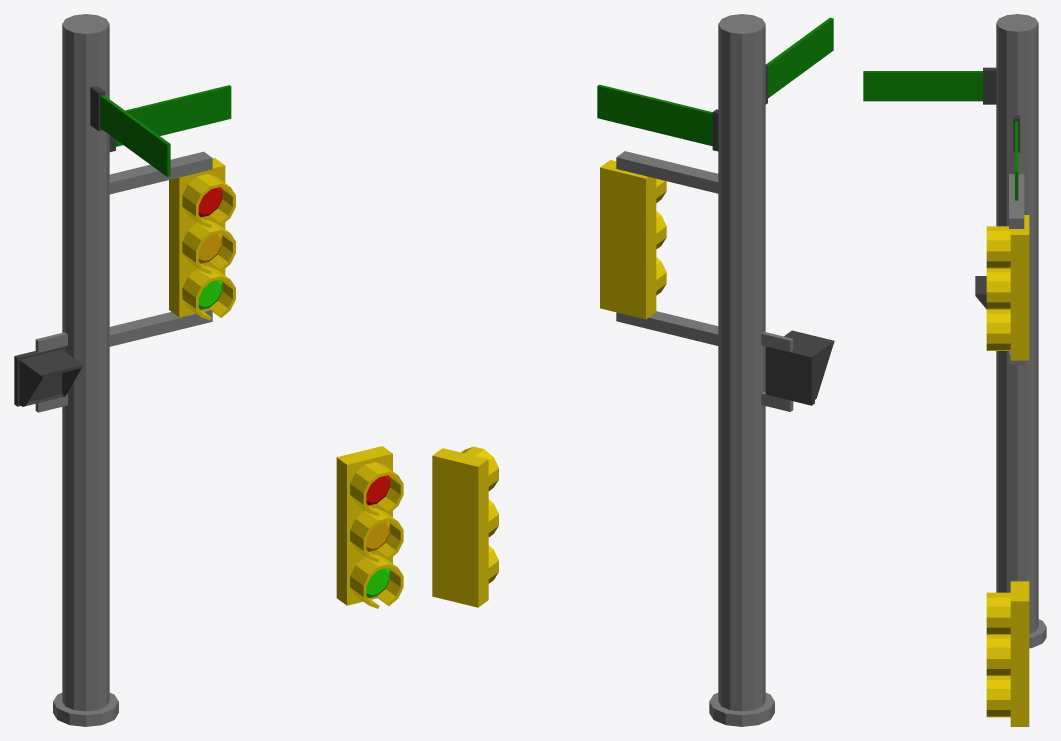
File: Stop Lights.fbx
The picture shows the model from 3 angles, left to right: view 1: azimuth 30°, elevation 25°; view 2: azimuth 150°, elevation 25°; view 3: azimuth 270°, elevation 25°; orthographic projection. The views are drawn at different scales.
Parts seen in each view (by area): view 1: Circle, Cube.004, Cube.001, Cube.002, Cube.011, Cube.003, Cube, Cube.013; view 2: Circle, Cube.002, Cube, Cube.011, Cube.003, Cube.013, Cube.004, Cube.001; view 3: Circle, Cube.013, Cube.004, Cube.001, Cube.002, Cube, Cube.012, Cube.003, Cube.011.
Part boxes in pixels (bbox=[...]): Circle: bbox=[35, 14, 212, 726]; Cube.004: bbox=[350, 462, 403, 608]; Cube.001: bbox=[182, 174, 235, 320]; Cube.002: bbox=[336, 446, 392, 605]; Cube.011: bbox=[116, 85, 231, 146]; Cube.003: bbox=[14, 347, 82, 406]; Cube: bbox=[169, 158, 225, 317]; Cube.013: bbox=[100, 95, 170, 176]; Circle: bbox=[616, 14, 793, 726]; Cube.002: bbox=[432, 448, 488, 607]; Cube: bbox=[600, 160, 656, 319]; Cube.011: bbox=[597, 84, 712, 146]; Cube.003: bbox=[765, 330, 834, 405]; Cube.013: bbox=[766, 17, 833, 98]; Cube.004: bbox=[461, 446, 498, 583]; Cube.001: bbox=[656, 178, 666, 295]; Circle: bbox=[996, 14, 1046, 648]; Cube.013: bbox=[863, 71, 982, 101]; Cube.004: bbox=[986, 592, 1010, 717]; Cube.001: bbox=[986, 226, 1010, 350]; Cube.002: bbox=[1010, 581, 1029, 726]; Cube: bbox=[1010, 215, 1029, 360]; Cube.012: bbox=[983, 67, 996, 104]; Cube.003: bbox=[975, 276, 986, 308]; Cube.011: bbox=[1015, 121, 1018, 200].
Size of the model in its own units: 1313 by 2313 by 626.
